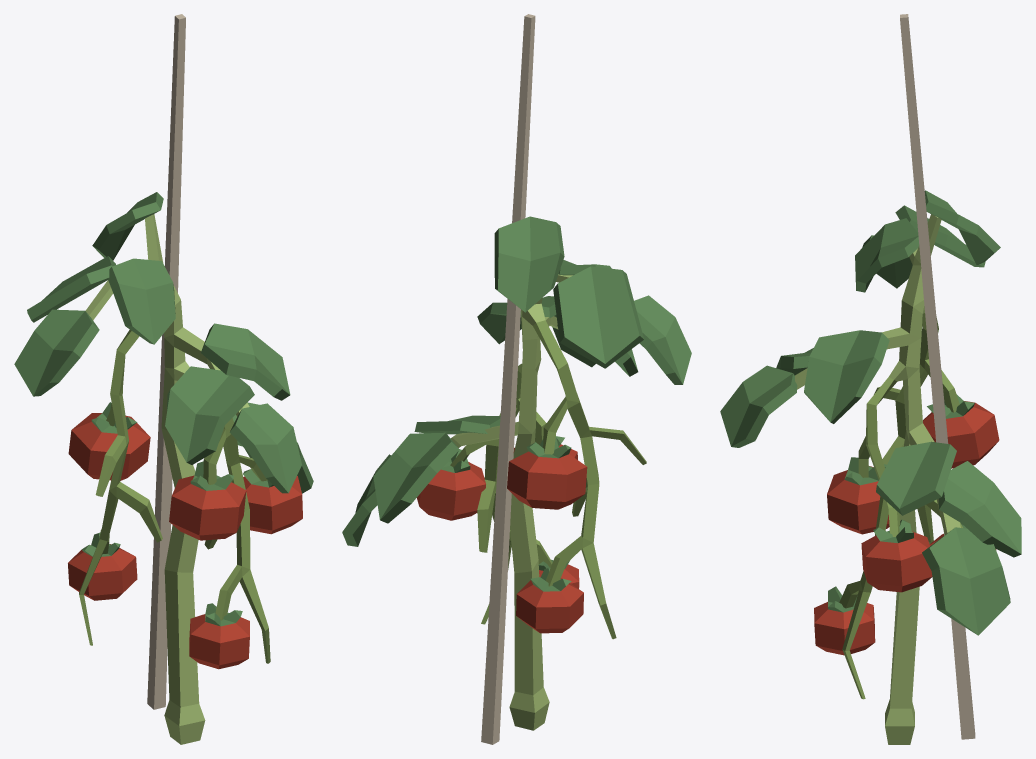
Rendered from SM_Env_Plant_Tomato_01.fbx.
3 views of the same model, side by side, from view 1: azimuth 30°, elevation 25°; view 2: azimuth 150°, elevation 25°; view 3: azimuth 270°, elevation 25° (orthographic).
Parts seen in each view (by area): view 1: SM_Env_Plant_Tomato_01; view 2: SM_Env_Plant_Tomato_01; view 3: SM_Env_Plant_Tomato_01.
Part boxes in pixels (x1=…): SM_Env_Plant_Tomato_01: x1=14, y1=14, x2=313, y2=744; SM_Env_Plant_Tomato_01: x1=342, y1=14, x2=691, y2=744; SM_Env_Plant_Tomato_01: x1=720, y1=14, x2=1021, y2=744.
Size of the model in its own units: 61.09 by 135 by 51.19.
